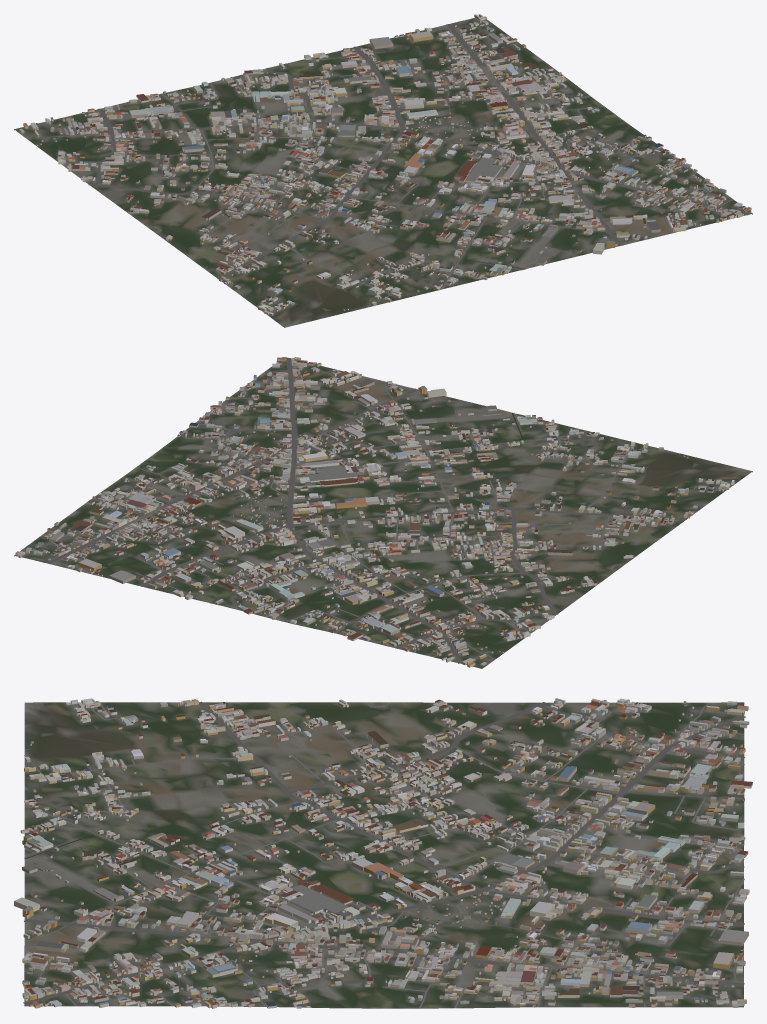
3 views of the same model, one above another, from view 1: azimuth 30°, elevation 25°; view 2: azimuth 150°, elevation 25°; view 3: azimuth 270°, elevation 25° (orthographic). The views are drawn at different scales.
Visible parts, largest first — view 1: ground, buildings, roads; view 2: ground, buildings, roads; view 3: ground, buildings, roads.
Boxes of the visible parts, x1,y1,x2,y2 form: ground: (14,18,752,327); buildings: (19,14,751,315); roads: (27,19,749,309); ground: (14,357,752,668); buildings: (15,357,734,667); roads: (25,358,724,663); ground: (24,702,744,1008); buildings: (14,698,752,1008); roads: (23,701,745,1008).
Bounding box in the file's own units: 1415 × 24.05 × 1438.
